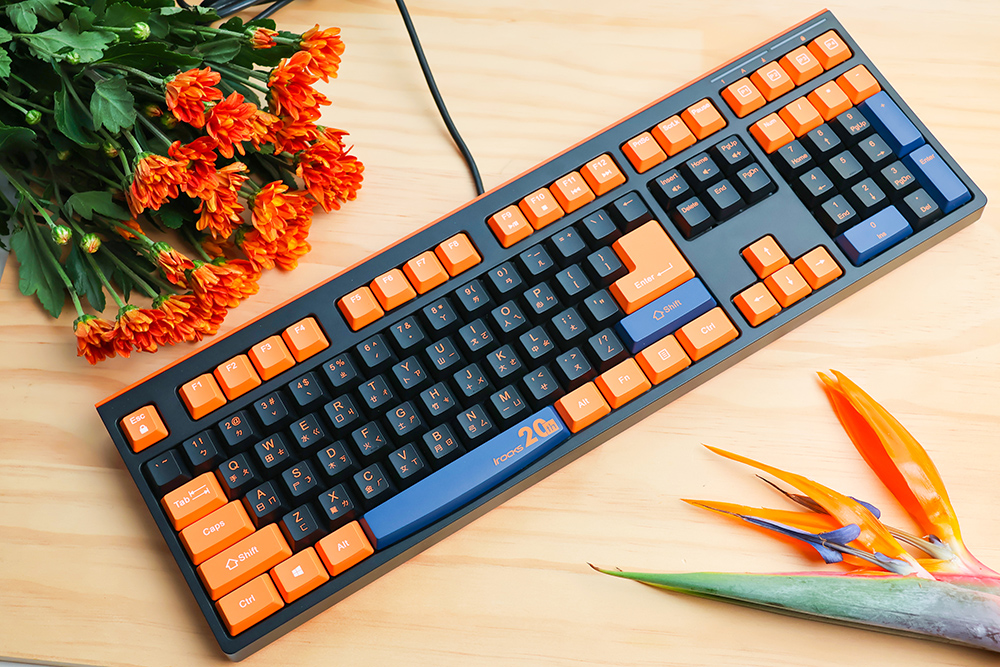keyboard: (83, 5, 987, 667)
